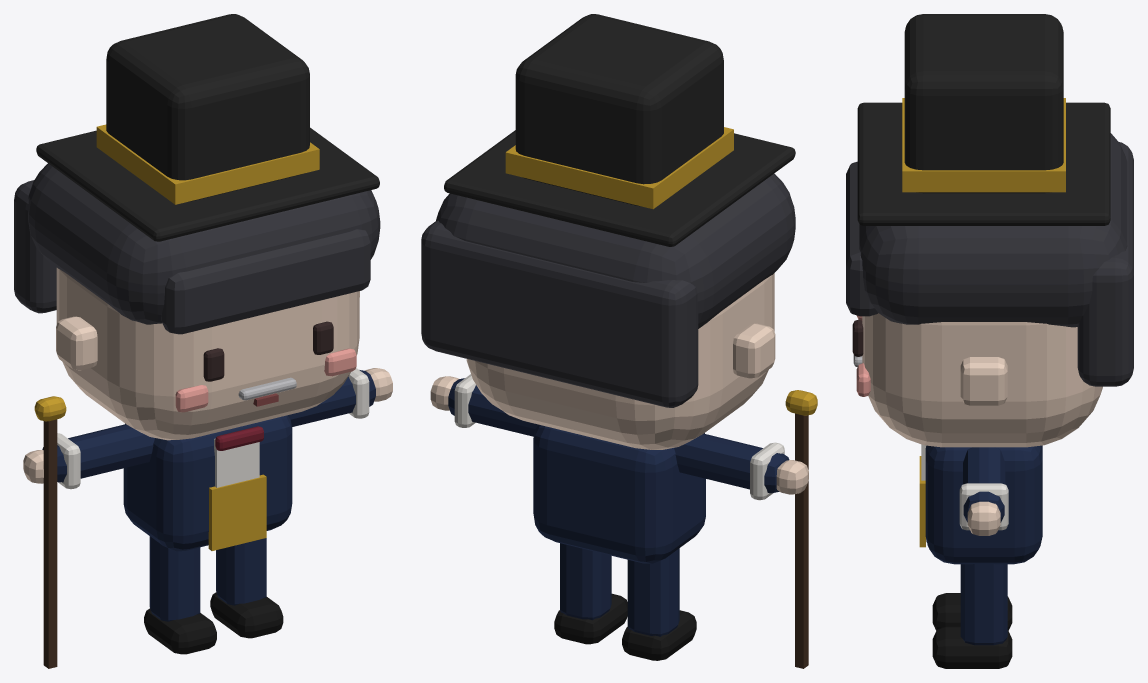
Rendered from CHAR_Customer_vip_Gentlemantophat.fbx.
The picture shows the model from 3 angles, left to right: view 1: azimuth 30°, elevation 25°; view 2: azimuth 150°, elevation 25°; view 3: azimuth 270°, elevation 25°; orthographic projection. The views are drawn at different scales.
Parts seen in each view (by area): view 1: CHAR_Customer_vip_Gentlemantophat; view 2: CHAR_Customer_vip_Gentlemantophat; view 3: CHAR_Customer_vip_Gentlemantophat.
Boxes of the visible parts, <box> form: CHAR_Customer_vip_Gentlemantophat: <box>14,14,392,668</box>; CHAR_Customer_vip_Gentlemantophat: <box>421,14,817,668</box>; CHAR_Customer_vip_Gentlemantophat: <box>846,14,1133,668</box>.
Bounding box in the file's own units: 0.0093 × 0.0142 × 0.00615.
